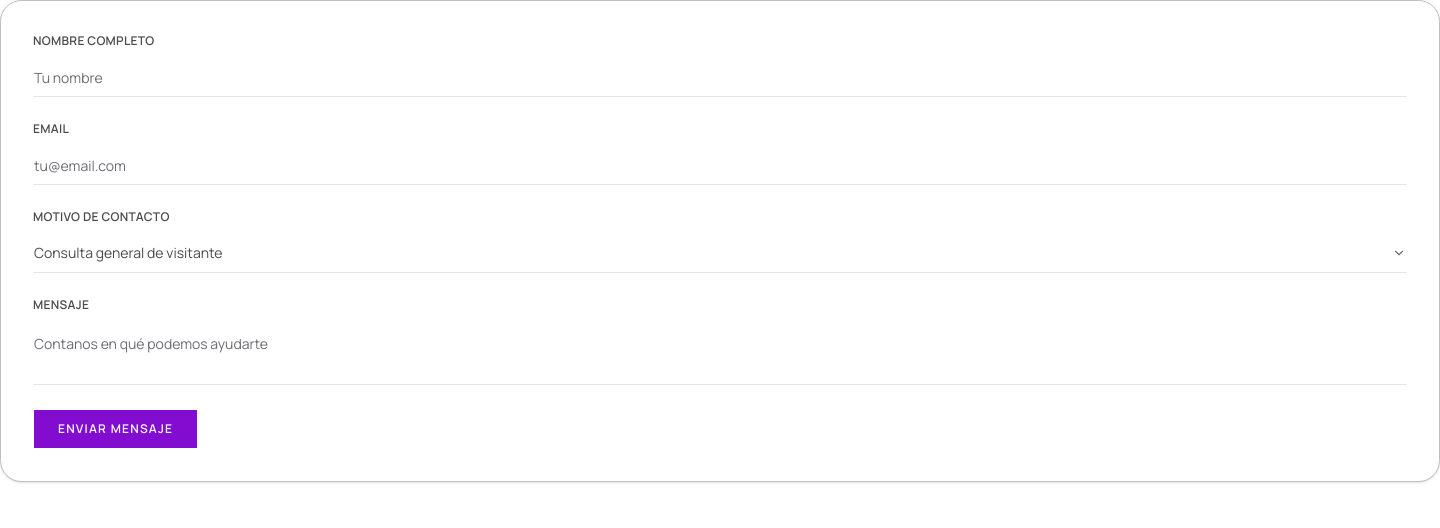
it: ContactForm › should prevent submission with name shorter than 2 characters
Type "J" into the field with placeholder "Tu nombre". click: (720, 77)
box: x1=33 y1=57 x2=1407 y2=97
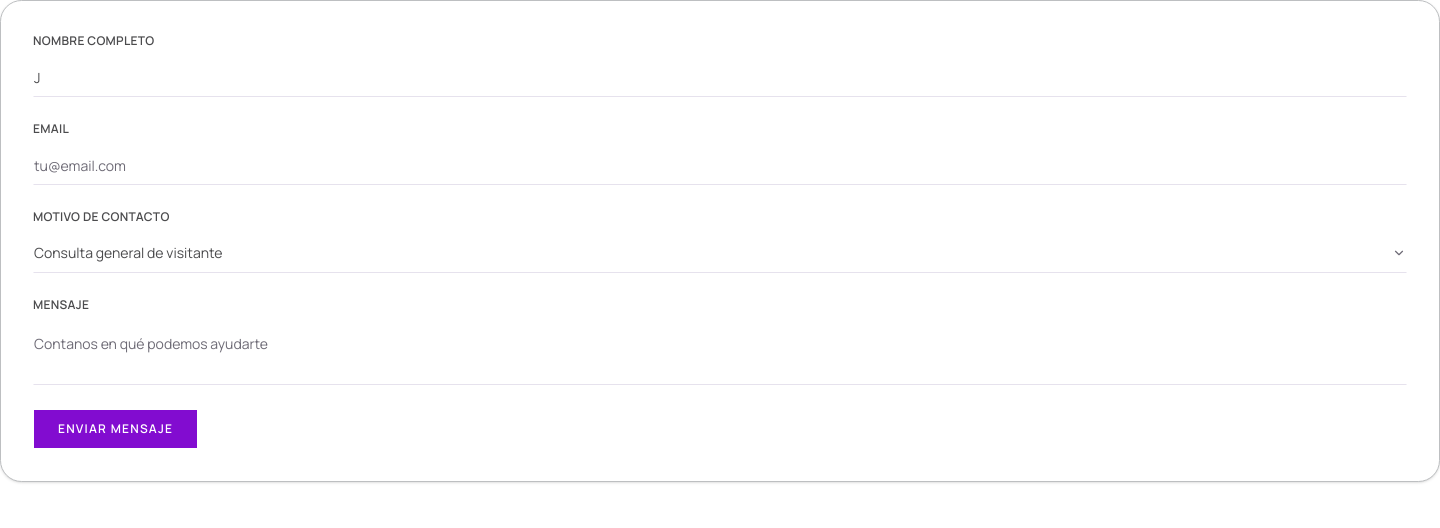
Type "test@example.com" into the field with placeholder "tu@email.com". click: (720, 165)
box: x1=33 y1=145 x2=1407 y2=185
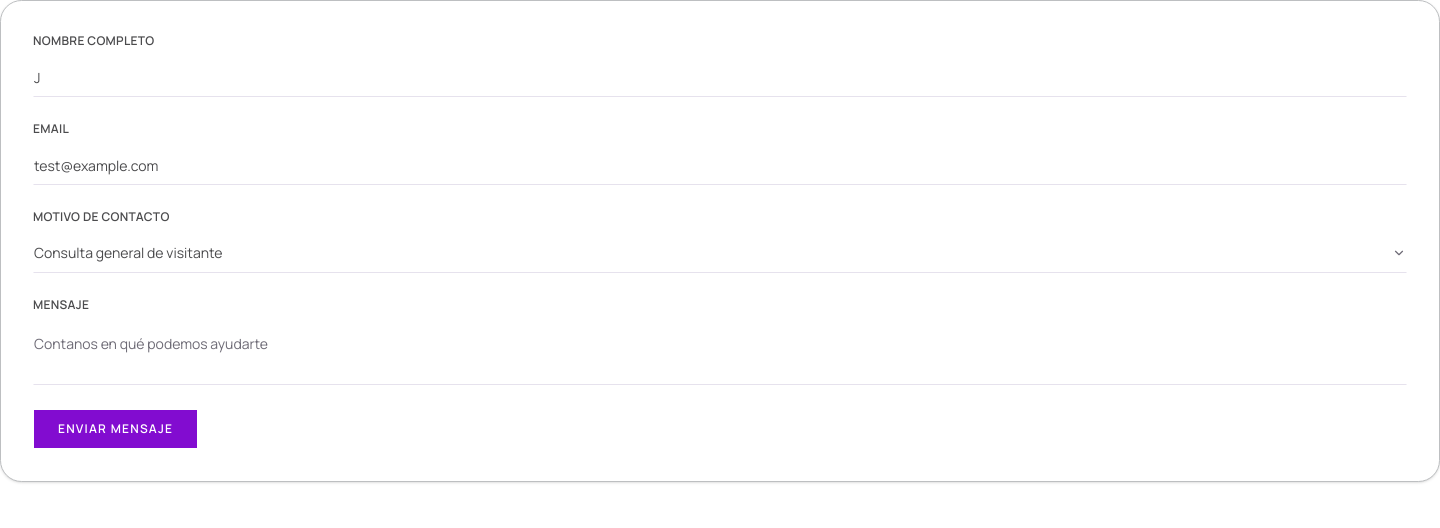
Type "Tengo una pregunta sobre el evento" into the text box with placeholder "Contanos en qué podemos ayudarte". click: (720, 353)
box: x1=33 y1=321 x2=1407 y2=385
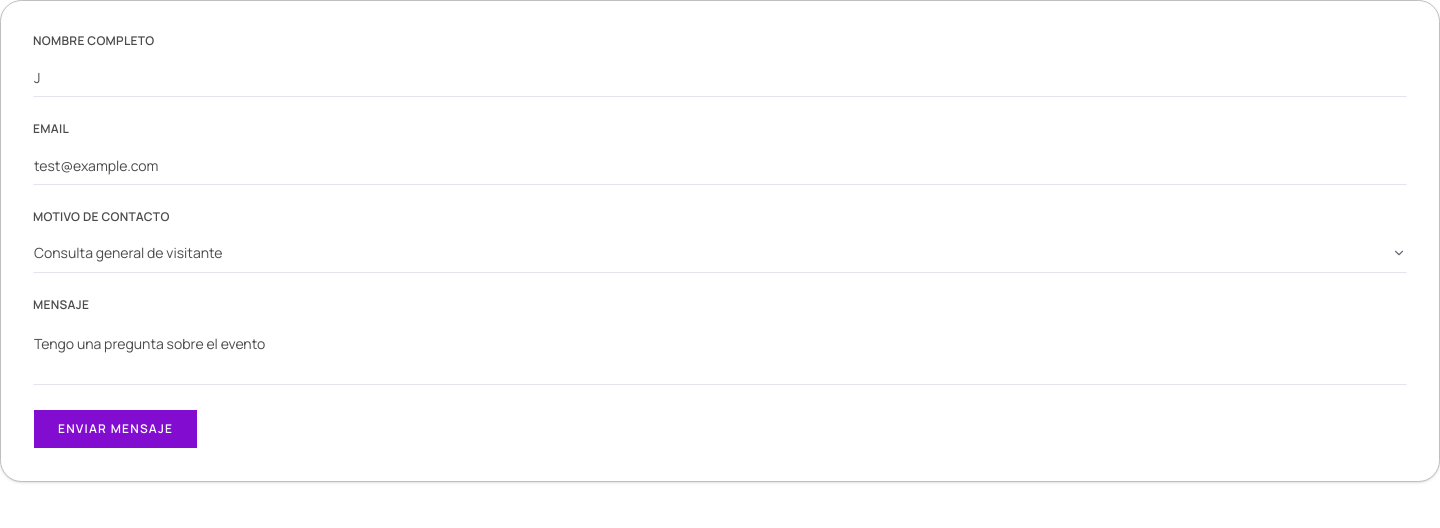
Click the button "Enviar mensaje". click: click(116, 429)
box: x1=33 y1=409 x2=198 y2=449
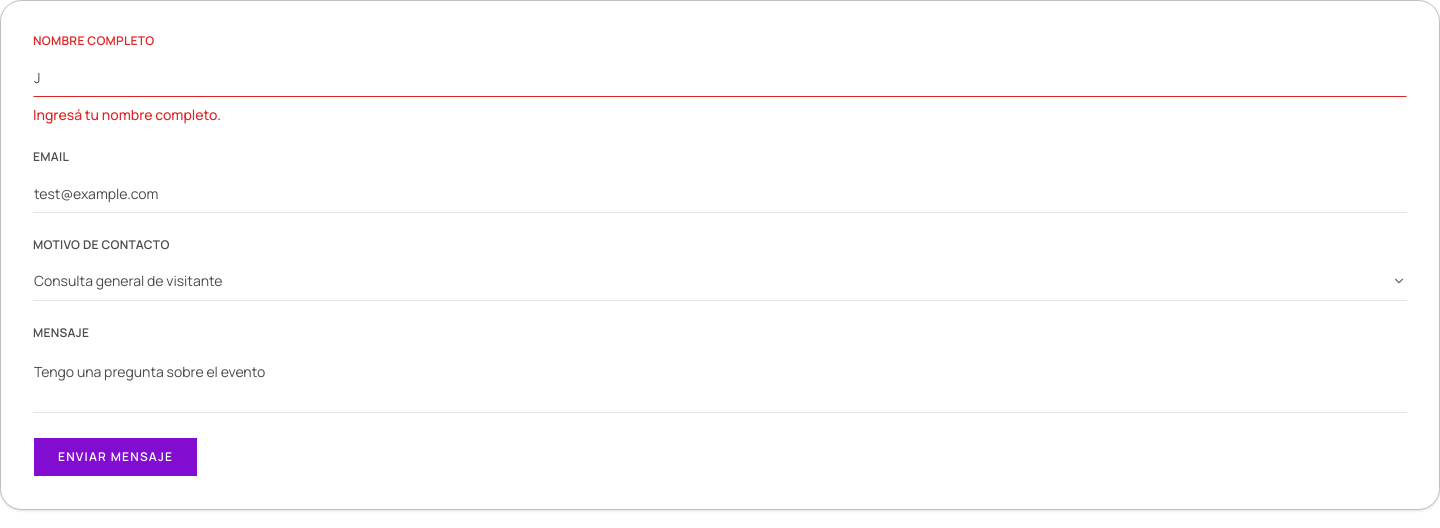
Now the text "Ingresá tu nombre completo." is shown, box x1=33 y1=105 x2=221 y2=124
